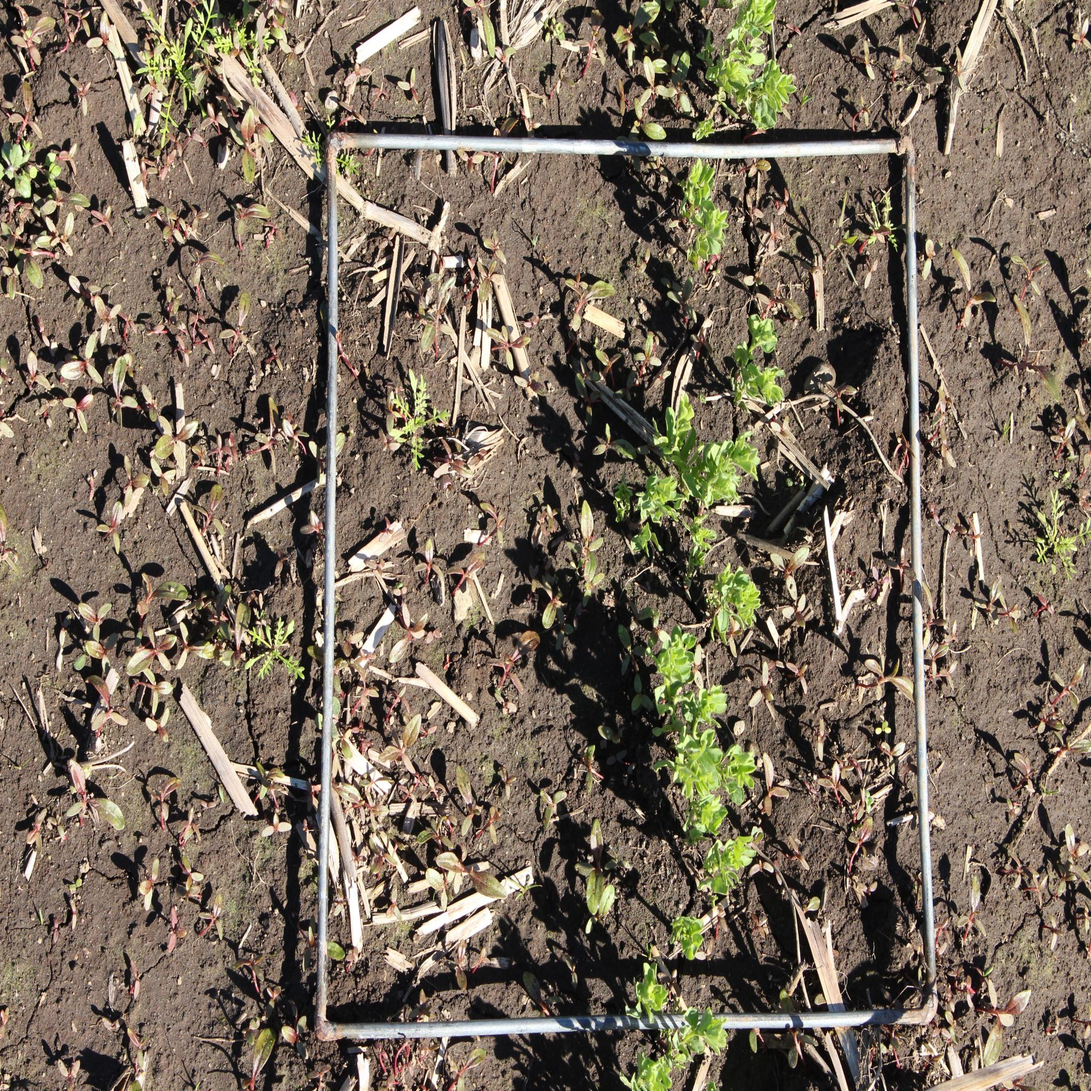AMBEL: (870, 720, 894, 734)
LENCU: (700, 429, 758, 508), (660, 730, 723, 795), (699, 831, 760, 894), (653, 389, 700, 468), (710, 565, 762, 634), (746, 62, 794, 129), (653, 628, 698, 697), (673, 1006, 731, 1058), (725, 0, 780, 52), (730, 358, 787, 407), (627, 960, 671, 1021), (617, 1051, 674, 1091), (689, 207, 729, 261), (637, 474, 679, 525), (665, 912, 706, 964), (682, 685, 727, 730), (683, 798, 727, 844), (723, 746, 757, 805), (687, 515, 720, 569), (707, 55, 749, 96), (682, 163, 717, 208), (742, 317, 778, 356), (629, 527, 665, 562), (611, 474, 636, 524), (691, 116, 717, 141)
POLAV: (832, 192, 860, 286), (798, 74, 814, 112)
POLPE: (1010, 292, 1063, 405), (983, 979, 1035, 1067), (63, 757, 126, 829), (577, 817, 622, 914), (771, 979, 819, 1068), (951, 247, 997, 329), (435, 850, 508, 899), (486, 632, 543, 692), (414, 276, 457, 351), (126, 623, 177, 678), (565, 278, 617, 331), (615, 1, 662, 59), (376, 714, 423, 772), (569, 500, 604, 575), (240, 1019, 276, 1091), (215, 600, 252, 669), (155, 414, 200, 469), (230, 108, 262, 185), (488, 106, 529, 166), (10, 15, 57, 66), (136, 571, 189, 616), (864, 656, 917, 701), (252, 388, 281, 470), (390, 602, 429, 661), (111, 350, 140, 429), (59, 331, 102, 384), (446, 551, 488, 603), (88, 674, 128, 728), (572, 6, 608, 66), (252, 0, 291, 55), (8, 79, 43, 140), (309, 429, 347, 483), (771, 543, 811, 594), (486, 325, 531, 370), (519, 970, 564, 1015), (462, 0, 496, 59), (756, 280, 806, 319), (190, 484, 226, 538), (13, 230, 46, 288), (955, 877, 989, 933), (232, 198, 270, 248), (455, 766, 481, 839), (219, 289, 251, 348), (920, 580, 947, 647), (184, 248, 227, 290), (593, 421, 637, 462), (447, 1048, 491, 1089), (664, 51, 692, 113), (1053, 661, 1086, 713), (762, 750, 788, 815), (975, 571, 1004, 628), (86, 11, 121, 58), (433, 438, 472, 480), (176, 621, 212, 666), (347, 659, 379, 708), (632, 94, 663, 144), (331, 781, 367, 824), (95, 499, 124, 552), (666, 276, 698, 324), (41, 185, 90, 216), (846, 815, 877, 864), (584, 886, 615, 935), (143, 668, 176, 714), (123, 452, 150, 507), (1011, 253, 1048, 293), (280, 1011, 310, 1060), (61, 391, 95, 434), (819, 760, 853, 803), (539, 585, 568, 634), (616, 623, 644, 673), (199, 893, 227, 942), (78, 601, 113, 640), (540, 787, 571, 830), (747, 661, 774, 710), (254, 762, 285, 804), (425, 868, 456, 910), (479, 500, 507, 546), (87, 634, 120, 673), (93, 295, 120, 342), (413, 538, 443, 580), (1015, 750, 1041, 797), (281, 420, 310, 462), (0, 501, 17, 572), (1050, 417, 1078, 460), (139, 857, 161, 911), (1061, 822, 1088, 866), (70, 275, 101, 313), (640, 56, 663, 107), (192, 56, 222, 94), (1009, 850, 1039, 888), (478, 260, 503, 305), (930, 382, 954, 428), (369, 835, 398, 873), (146, 776, 180, 808), (27, 804, 48, 855), (27, 350, 53, 391), (231, 952, 267, 981), (52, 212, 76, 255), (167, 906, 188, 955), (150, 457, 176, 496), (632, 671, 654, 717), (70, 72, 92, 117), (826, 383, 856, 416), (1000, 594, 1023, 637), (784, 656, 810, 694), (788, 832, 812, 873), (781, 594, 809, 629), (421, 251, 446, 290), (514, 371, 550, 398), (451, 939, 470, 990), (581, 742, 598, 798), (881, 740, 906, 778), (127, 1027, 148, 1072), (176, 807, 202, 843), (581, 570, 605, 609), (409, 989, 435, 1025), (576, 356, 599, 396), (890, 546, 917, 580), (417, 815, 446, 846), (299, 507, 326, 540), (1057, 733, 1090, 760), (483, 228, 507, 265), (396, 69, 422, 103), (360, 771, 394, 797), (145, 707, 170, 742), (50, 143, 78, 174), (260, 812, 292, 839), (863, 215, 892, 244), (634, 336, 662, 366), (88, 206, 115, 237), (595, 347, 622, 378), (925, 644, 950, 677), (891, 432, 916, 465), (211, 583, 232, 622), (536, 502, 560, 536), (182, 853, 204, 890), (2, 259, 23, 297), (182, 202, 210, 230), (300, 927, 316, 976), (279, 39, 306, 68), (345, 60, 372, 89), (893, 34, 913, 73), (939, 428, 958, 469), (57, 1060, 82, 1091), (613, 370, 637, 402), (340, 99, 367, 127), (1055, 862, 1076, 898), (67, 6, 93, 35), (742, 156, 772, 181), (920, 237, 937, 281), (207, 435, 233, 463), (140, 77, 168, 103), (341, 629, 366, 658), (140, 385, 158, 425), (994, 1076, 1042, 1091), (954, 46, 967, 101), (470, 942, 492, 974), (135, 159, 161, 186), (161, 217, 186, 245), (869, 565, 889, 600), (189, 586, 213, 615), (881, 1020, 905, 1049), (1, 218, 22, 251), (1046, 910, 1063, 950), (215, 86, 242, 111), (421, 775, 445, 803), (967, 514, 983, 556), (1037, 711, 1065, 735), (1072, 16, 1091, 51), (140, 203, 170, 225), (332, 728, 354, 758), (387, 884, 403, 925), (645, 155, 669, 182), (1032, 873, 1050, 909), (943, 1010, 962, 1044), (388, 684, 411, 712), (337, 324, 351, 369), (693, 646, 708, 688), (57, 610, 74, 647), (767, 221, 784, 258), (583, 390, 600, 427), (923, 1041, 942, 1074), (628, 599, 653, 624), (690, 327, 713, 354), (899, 0, 922, 27), (116, 307, 138, 335), (748, 907, 766, 941), (599, 723, 628, 744), (265, 982, 286, 1011), (863, 257, 879, 295), (140, 37, 166, 60), (164, 129, 184, 158), (369, 801, 389, 830), (261, 219, 284, 244), (455, 149, 485, 168), (243, 1015, 262, 1045), (939, 659, 958, 689), (555, 68, 575, 96), (370, 81, 391, 107), (416, 1039, 442, 1060), (486, 805, 500, 844), (727, 616, 740, 658), (306, 1061, 333, 1081), (128, 956, 141, 997), (491, 694, 519, 713), (932, 915, 951, 943), (19, 196, 42, 219), (202, 105, 224, 129), (925, 498, 942, 529), (963, 974, 977, 1011), (199, 325, 215, 357), (183, 126, 205, 149), (944, 511, 966, 534), (746, 194, 764, 222), (161, 149, 177, 180), (176, 335, 191, 368), (500, 766, 515, 799), (374, 1072, 400, 1091), (48, 812, 66, 839), (378, 429, 399, 452), (268, 342, 285, 370), (943, 619, 962, 644), (157, 276, 175, 302), (38, 395, 58, 418), (363, 556, 386, 576), (175, 885, 202, 902), (858, 92, 870, 130), (1036, 592, 1055, 616), (604, 747, 628, 766), (637, 247, 652, 277), (777, 187, 792, 217), (379, 513, 394, 543), (871, 1037, 888, 1063), (67, 895, 78, 935), (770, 415, 790, 437), (396, 783, 418, 803), (801, 895, 823, 915), (306, 781, 321, 810), (569, 448, 584, 477), (274, 549, 290, 576), (864, 41, 875, 80), (36, 317, 50, 347), (289, 88, 304, 116), (855, 786, 867, 821), (101, 1015, 127, 1031), (748, 861, 774, 877), (0, 355, 13, 387), (617, 76, 627, 117), (855, 878, 879, 895), (379, 227, 396, 251), (228, 29, 241, 60), (386, 390, 396, 430), (975, 963, 996, 982), (654, 367, 672, 389), (563, 958, 580, 981), (526, 561, 539, 591), (191, 444, 207, 468), (4, 195, 18, 222), (716, 904, 729, 933), (1080, 1005, 1091, 1039), (468, 448, 487, 467), (802, 263, 826, 278), (145, 323, 166, 340), (495, 47, 517, 63), (1007, 797, 1023, 819), (400, 1052, 416, 1074), (334, 889, 346, 918), (817, 717, 825, 760), (188, 312, 207, 330), (49, 913, 60, 944), (1080, 439, 1091, 470), (0, 1006, 10, 1040), (943, 985, 956, 1011), (1050, 1012, 1064, 1036), (666, 213, 686, 229), (853, 752, 864, 781), (169, 292, 184, 313), (569, 273, 590, 288), (750, 1027, 763, 1051), (1079, 488, 1091, 514), (229, 432, 239, 463), (420, 723, 438, 740), (425, 629, 443, 646), (932, 1025, 951, 1041), (348, 850, 368, 865), (764, 657, 784, 672), (741, 275, 764, 288), (345, 944, 359, 965), (376, 1040, 390, 1061), (1082, 898, 1090, 934), (664, 244, 679, 263), (803, 778, 818, 797), (199, 796, 217, 811), (523, 316, 541, 331), (947, 963, 965, 978), (784, 21, 802, 36), (773, 859, 783, 885), (526, 117, 542, 133), (466, 255, 476, 280), (414, 771, 429, 787), (711, 253, 724, 271), (246, 591, 261, 606), (88, 474, 95, 504), (442, 653, 453, 672), (352, 718, 365, 734), (392, 584, 408, 597), (64, 23, 73, 45), (361, 739, 372, 756), (647, 330, 661, 343), (541, 253, 552, 269), (831, 0, 842, 15), (755, 126, 768, 137), (302, 819, 309, 836)
